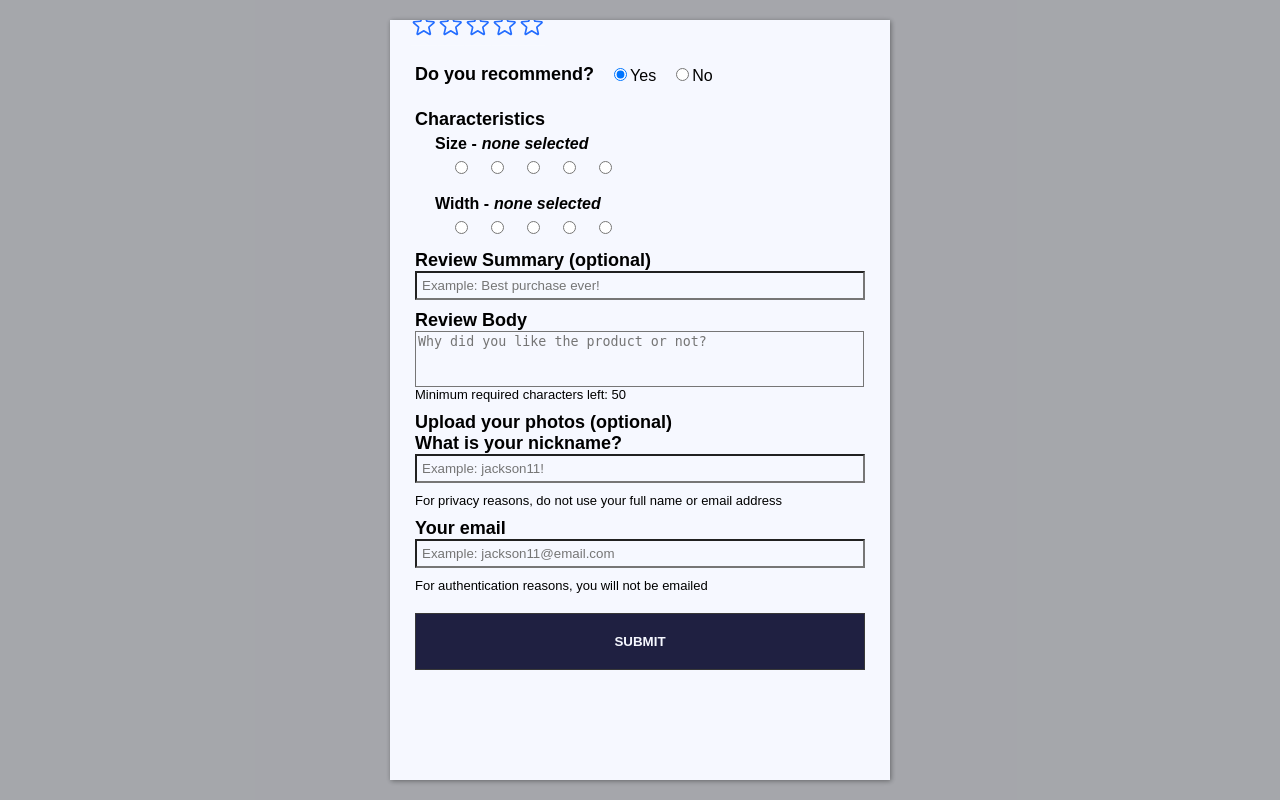
Client side error handling › should show error messages
(page scrolled)
Click the button with test id "submit-button". click: (640, 642)
box: [415,613,865,670]
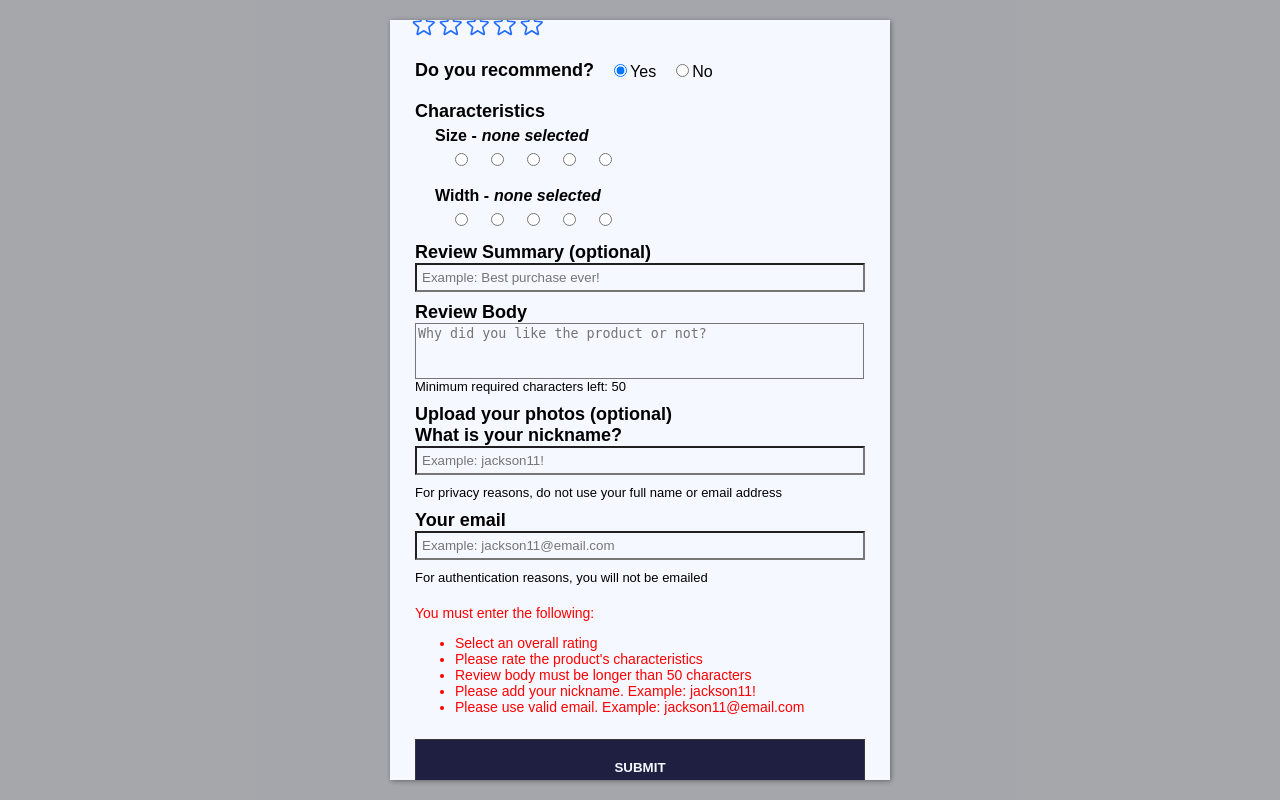
Expected: the number of list items with test id "error-message" is 5, [455,635,597,651]; [455,651,703,667]; [455,667,752,683]; [455,683,756,699]; [455,699,865,715]
